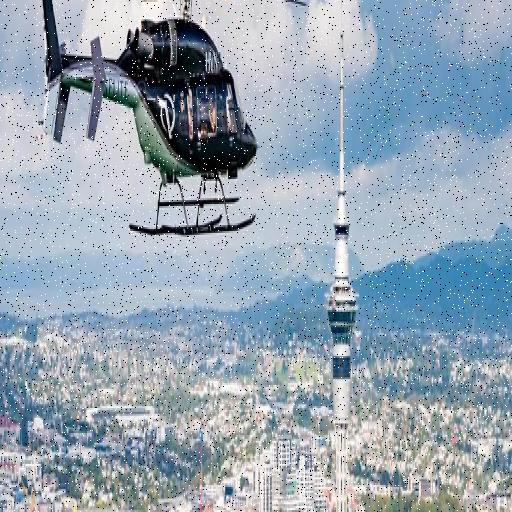helicopter: (34, 1, 309, 240)
